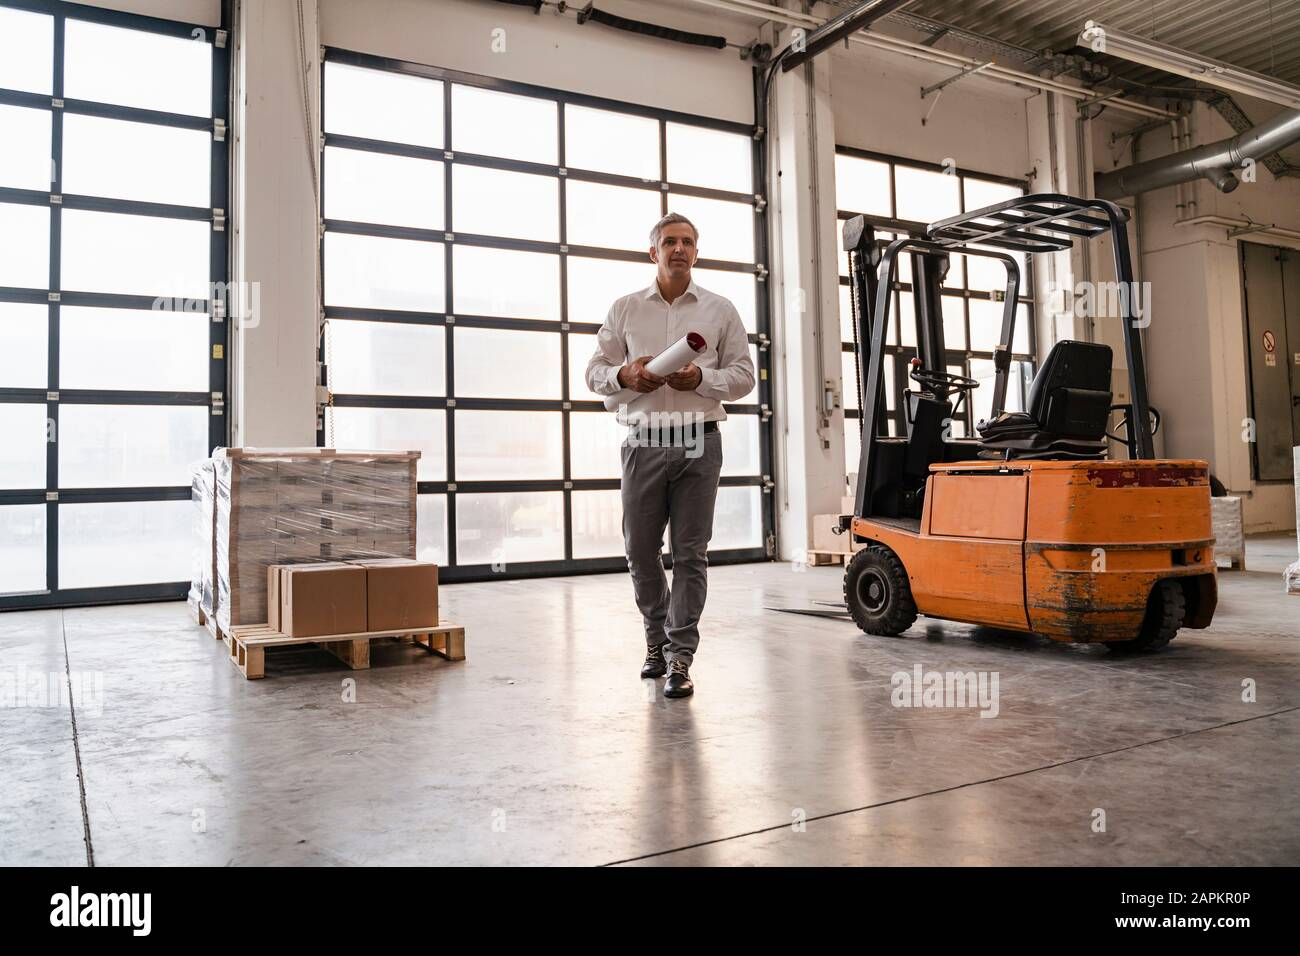person: (582, 216, 756, 695)
